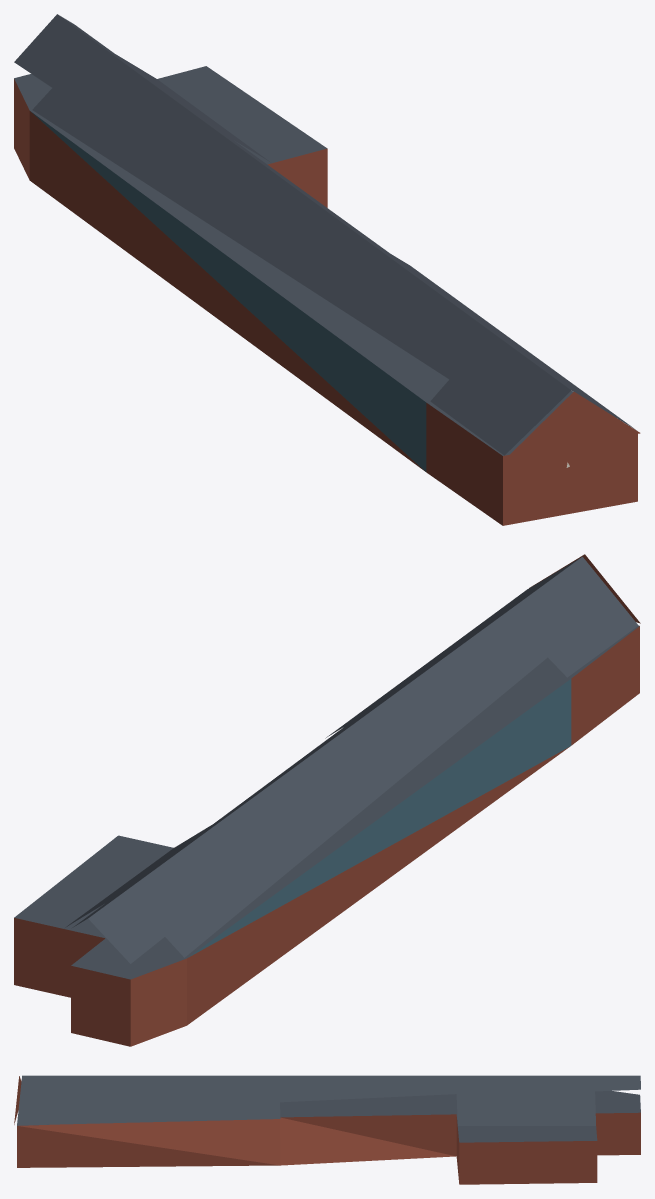
Rendered from occii.lod2.glb.
The picture shows the model from 3 angles, top to bottom: view 1: azimuth 30°, elevation 25°; view 2: azimuth 150°, elevation 25°; view 3: azimuth 270°, elevation 25°; orthographic projection. The views are drawn at different scales.
Visible parts, largest first — view 1: lod2; view 2: lod2; view 3: lod2.
Part boxes in pixels (box(x1,y1,x2,y2)): lod2: box(14, 14, 640, 525); lod2: box(14, 554, 640, 1046); lod2: box(14, 1075, 640, 1184).
Bounding box in the file's own units: 13.36 × 8.5 × 64.82.
